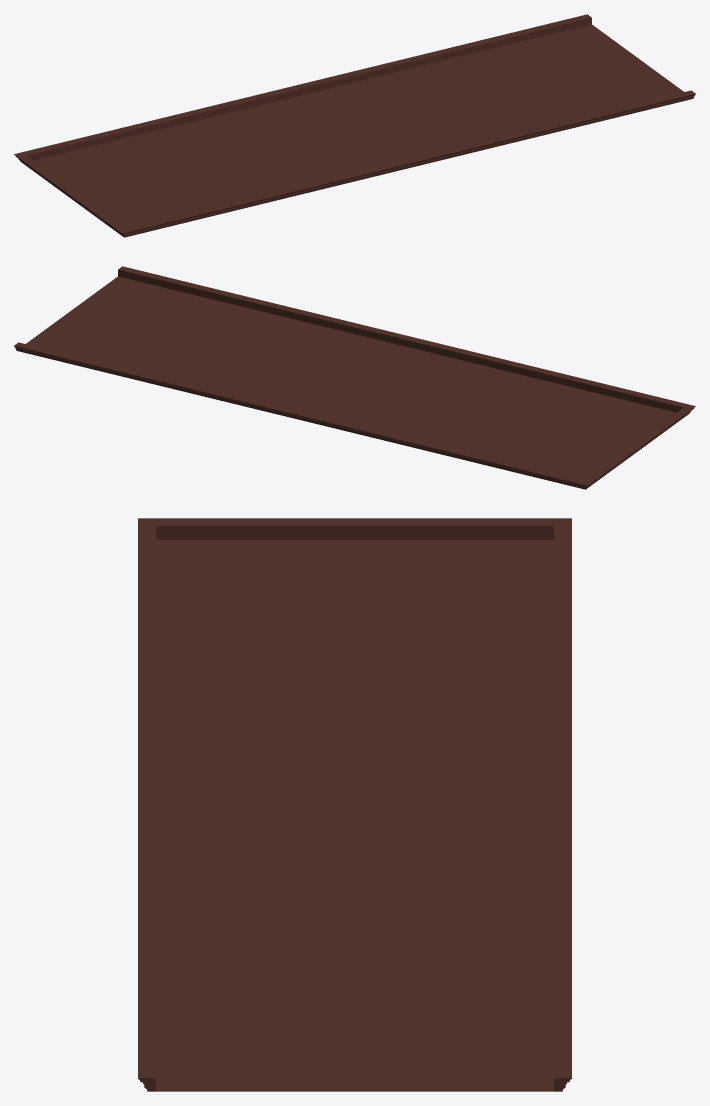
Rendered from BuildingSmall1_3.fbx.
The picture shows the model from 3 angles, top to bottom: view 1: azimuth 30°, elevation 25°; view 2: azimuth 150°, elevation 25°; view 3: azimuth 270°, elevation 25°; orthographic projection. The views are drawn at different scales.
Visible parts, largest first — view 1: BuildingSmall1_3; view 2: BuildingSmall1_3; view 3: BuildingSmall1_3.
Boxes of the visible parts, <box> form: BuildingSmall1_3: <box>14,14,695,237</box>; BuildingSmall1_3: <box>14,266,695,489</box>; BuildingSmall1_3: <box>138,518,571,1091</box>.
Size of the model in its own units: 6125 by 69.12 by 2008.
